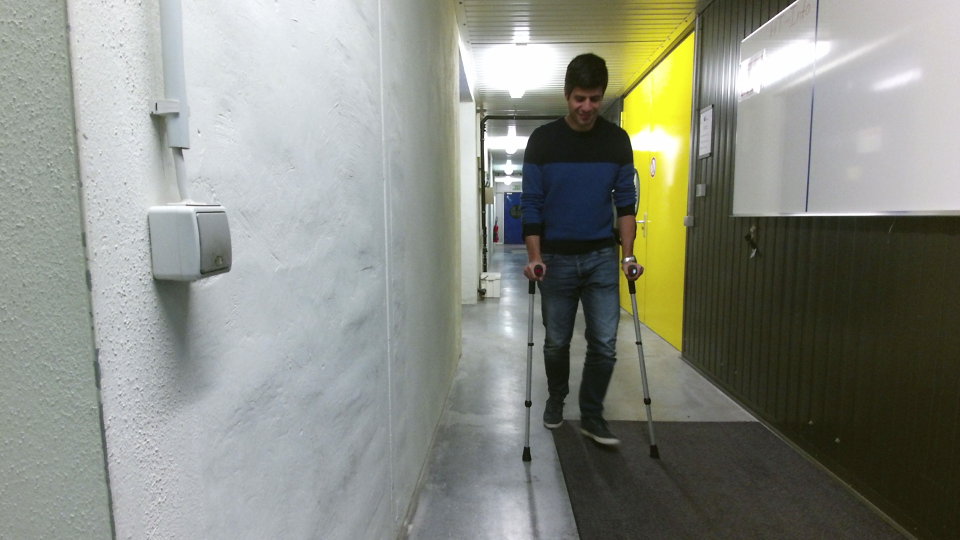crutches: (512, 58, 670, 472)
